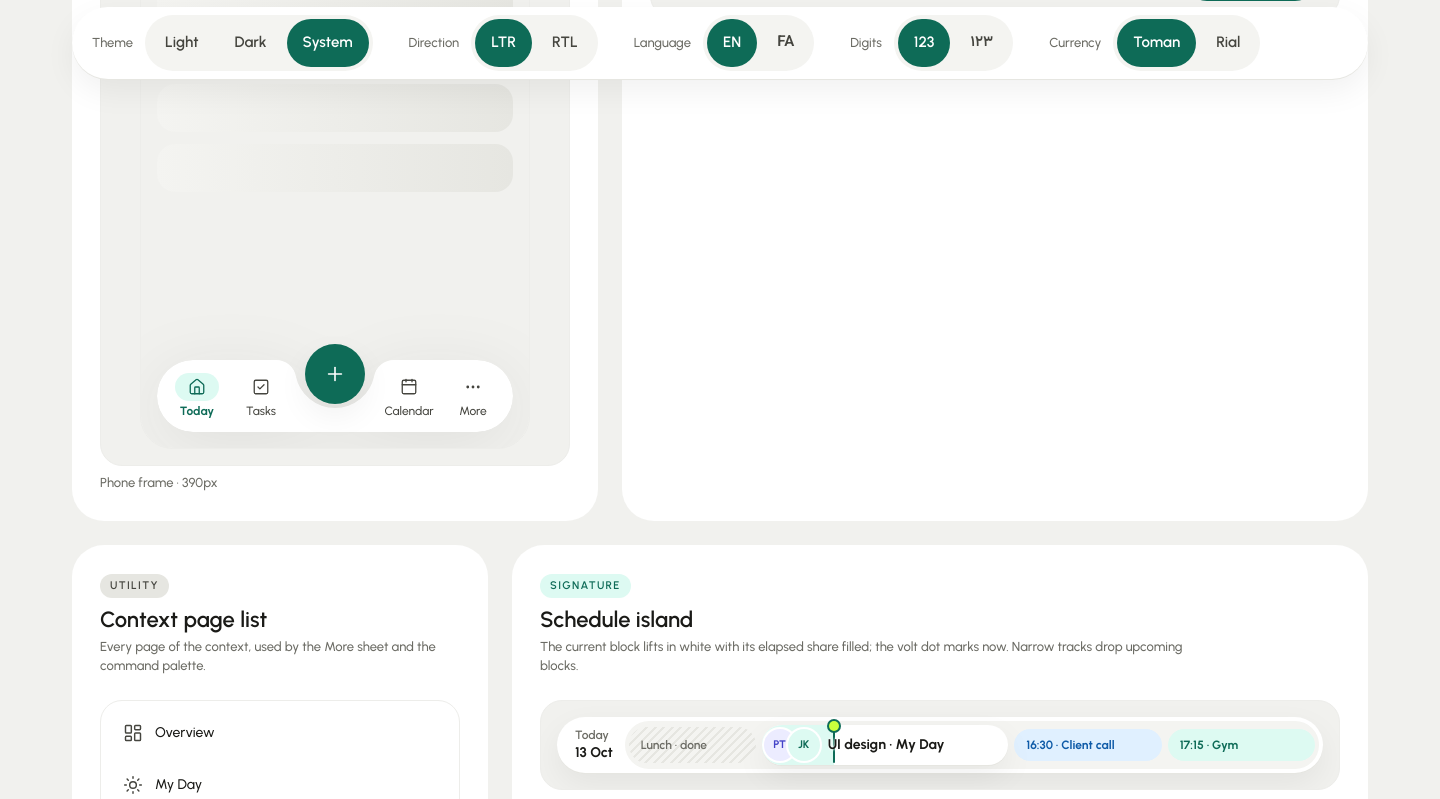
NavigationView › contains the mobile bar in its phone frame and opens More as a sheet
(page scrolled)
Click the button "More".
click(473, 396)  # box [441,368,505,424]
(page scrolled)
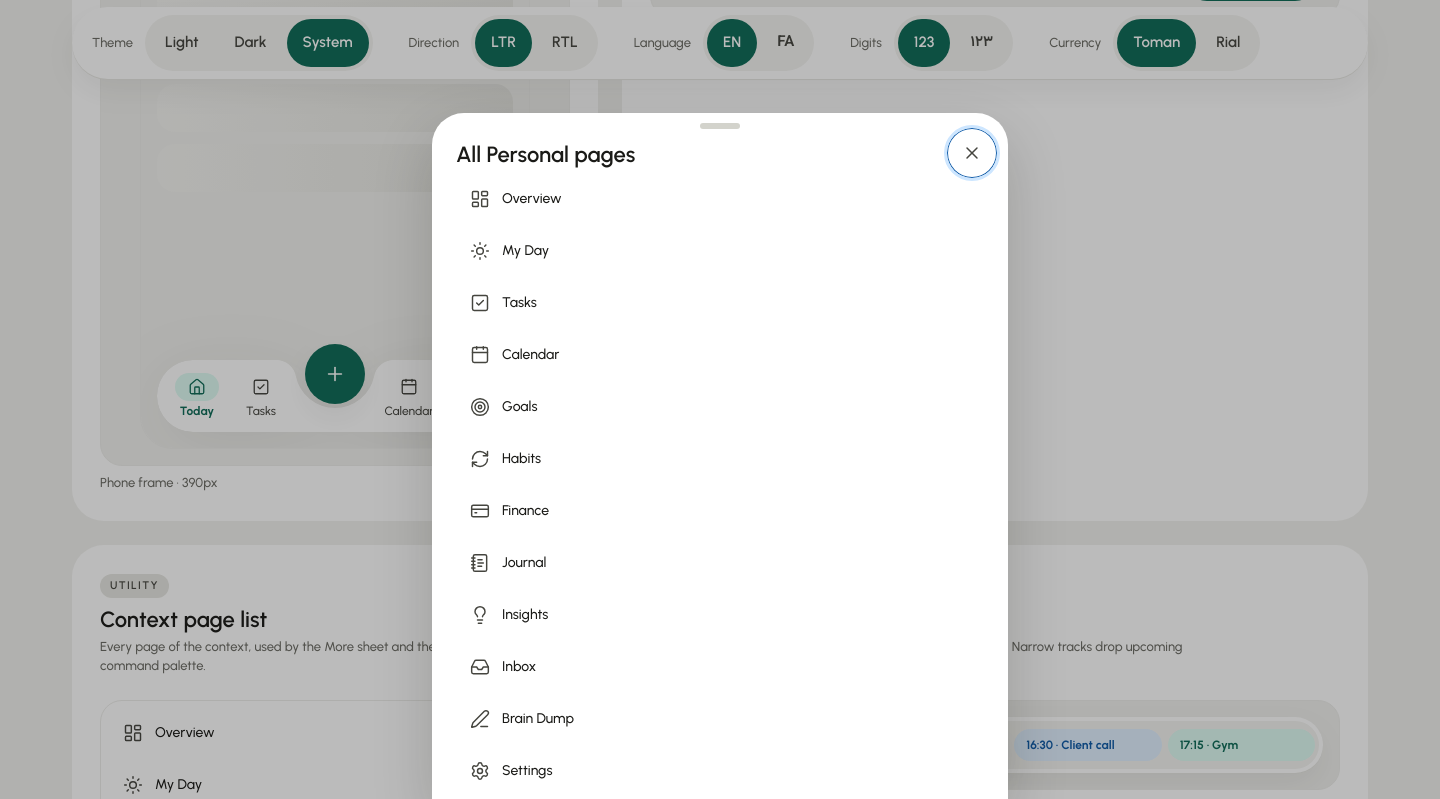
Expected: the list named "All Personal pages" is shown, [470,189,574,781]
